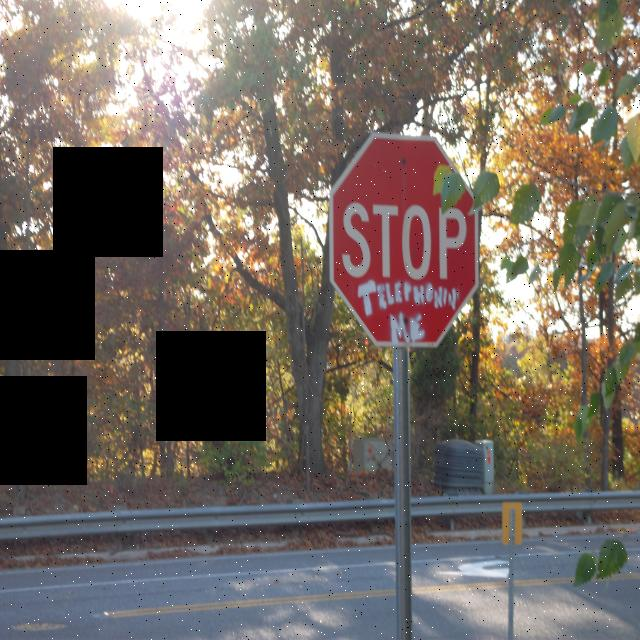stop: (325, 124, 485, 358)
